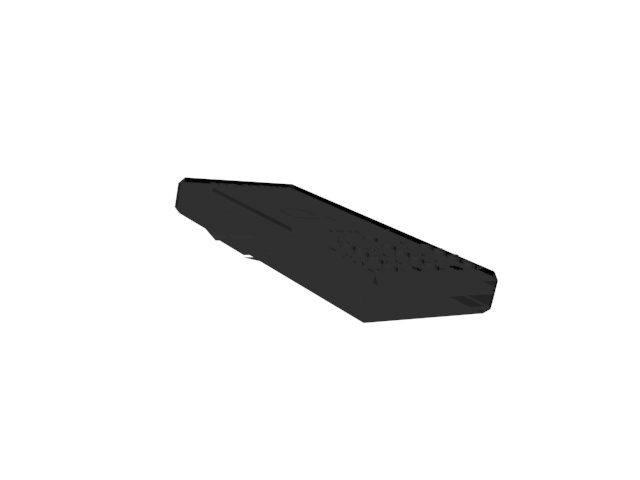mobile_phone: (169, 177, 504, 328)
